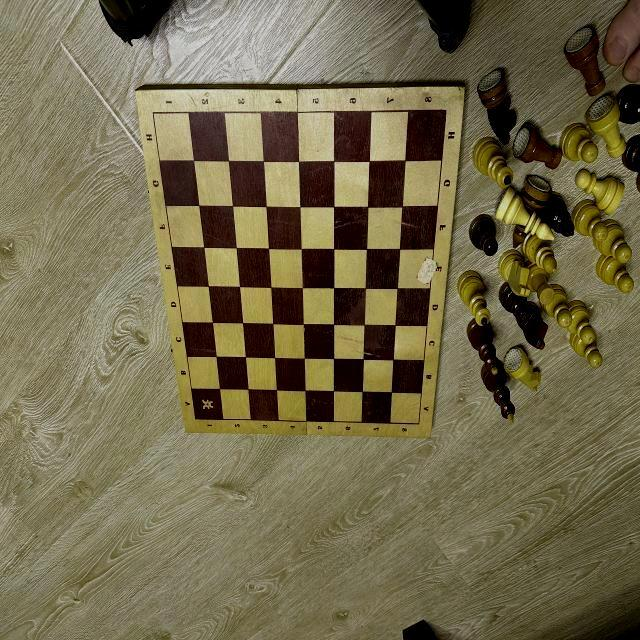chess-table-corners: (442, 106, 450, 115), (416, 420, 422, 428), (150, 110, 156, 116), (194, 417, 197, 422)
